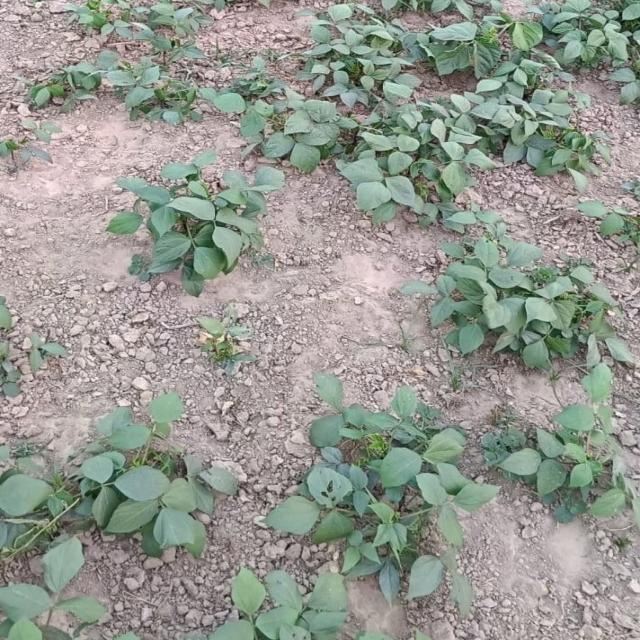plant: (30, 0, 635, 519), (204, 6, 635, 518), (201, 372, 499, 639), (0, 392, 237, 640), (263, 372, 499, 614), (0, 392, 237, 558), (107, 152, 284, 295), (107, 152, 284, 293), (0, 536, 103, 640), (207, 570, 345, 639), (74, 0, 207, 55), (69, 54, 168, 110)
